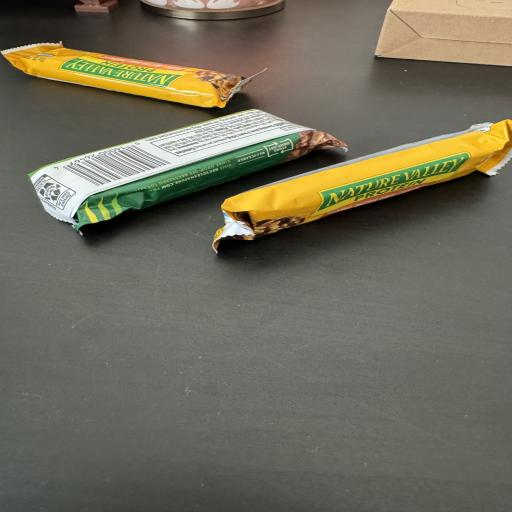granola: (214, 120, 511, 250), (30, 110, 346, 229), (2, 43, 253, 107)
